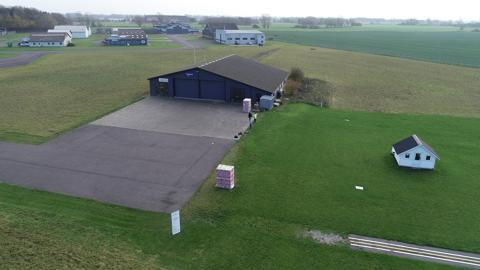RockwoolPallet: (243, 98, 252, 113)
